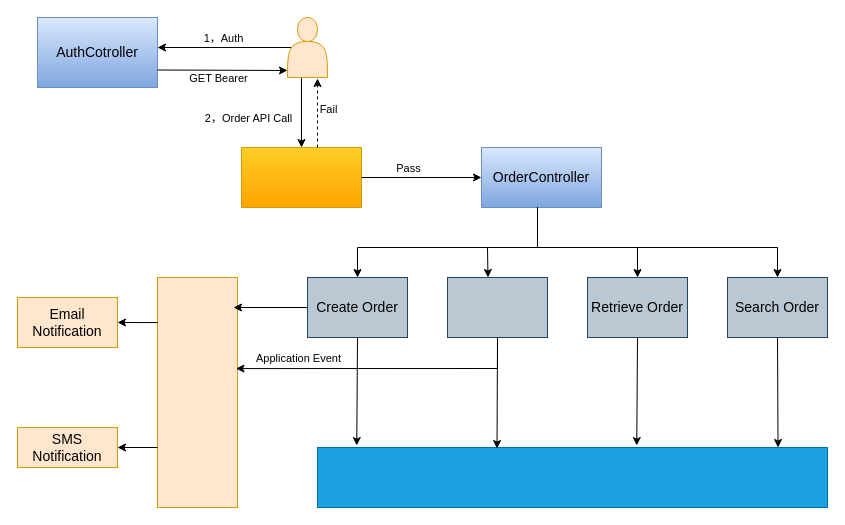
Some shapes in this 845 by 525 pixel diagram are drawn without their labels. The shapes that lost their labels are listed below. From the top down, each one's centre as x and y in pixels, then its label:
At (x=301, y=177): "AuthFilter".
At (x=497, y=307): "Update Order".
At (x=197, y=392): "Notification".
At (x=572, y=477): "MySQL".
